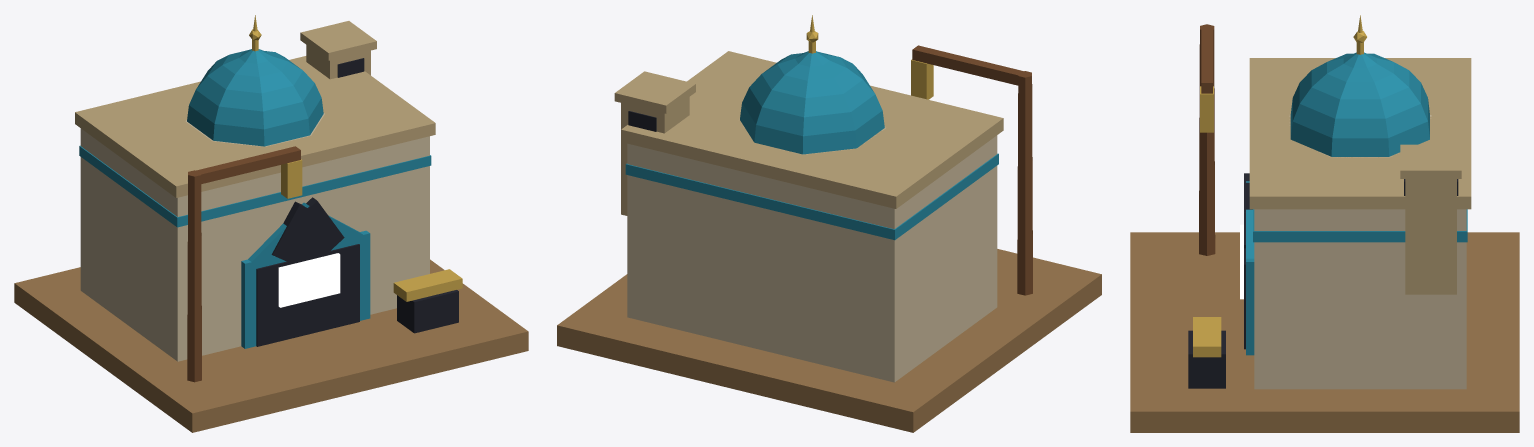
Rendered from workshop_t2.glb.
3 renders of one model, left to right at view 1: azimuth 30°, elevation 25°; view 2: azimuth 150°, elevation 25°; view 3: azimuth 270°, elevation 25°, orthographic. The views are drawn at different scales.
Visible parts, largest first — view 1: body, glow; view 2: body; view 3: body.
Part boxes in pixels (bbox=[...]): body: bbox=[14, 15, 528, 432]; glow: bbox=[278, 253, 340, 307]; body: bbox=[557, 15, 1101, 432]; body: bbox=[1130, 15, 1519, 432].
Bounding box in the file's own units: 1.8 × 1.54 × 1.65.
